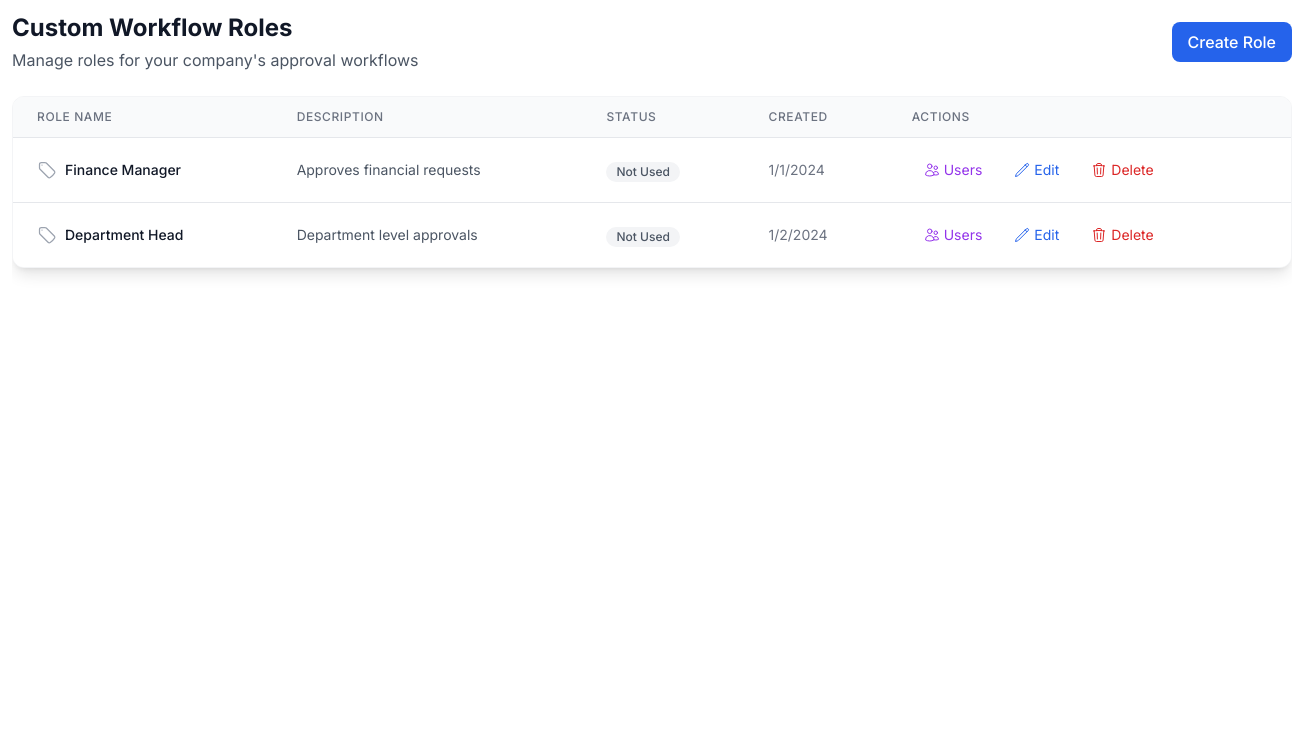
Test: RoleManagement - Role Edit Functionality › Edit Form Display › should show edit form when Edit button is clicked
This screenshot has width=1304, height=732.
Expected: the text "Finance Manager" is shown, [65,160,181,180]
Click the button "Edit" in the row of "Finance Manager": (1037,170) [1002,154,1071,186]
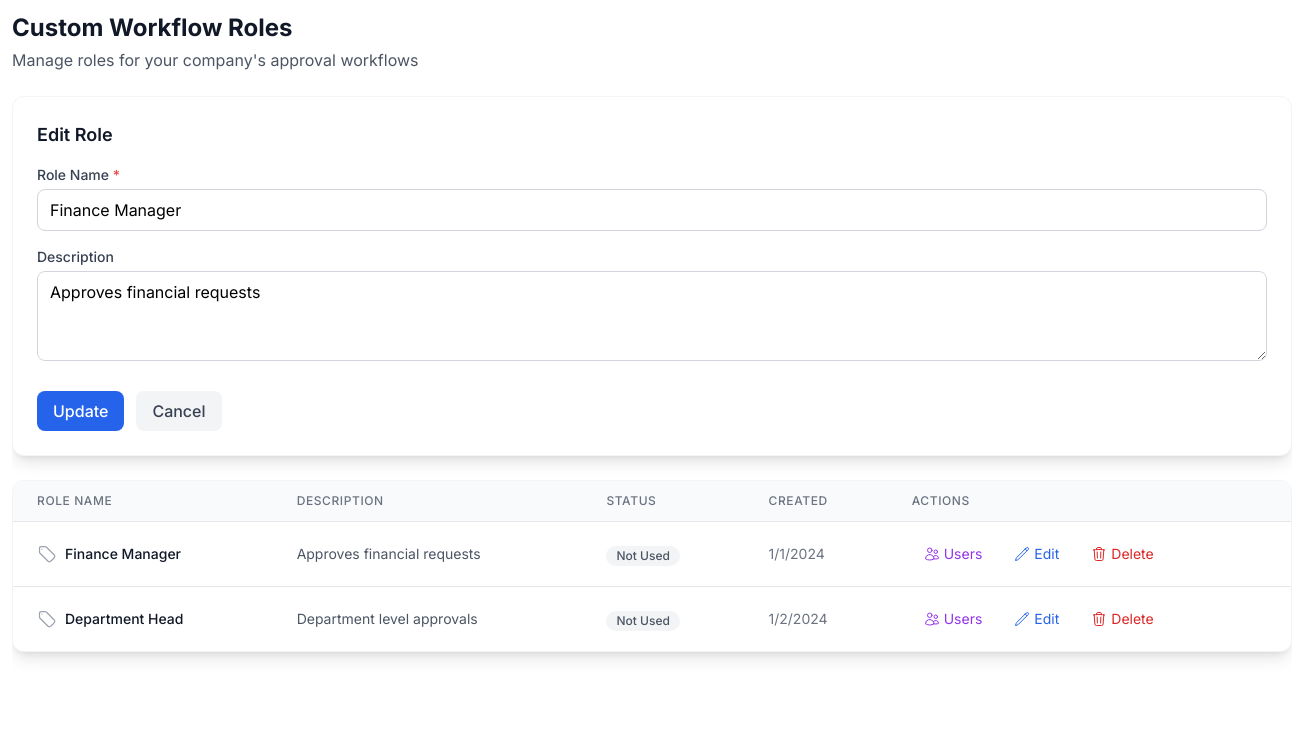
Expected: the heading "Edit Role" is shown, [37,124,113,145]
Expected: the field labelled "Role Name *" is shown, [37,189,1267,231]
Expected: the text box labelled "Description" is shown, [37,271,1267,361]
